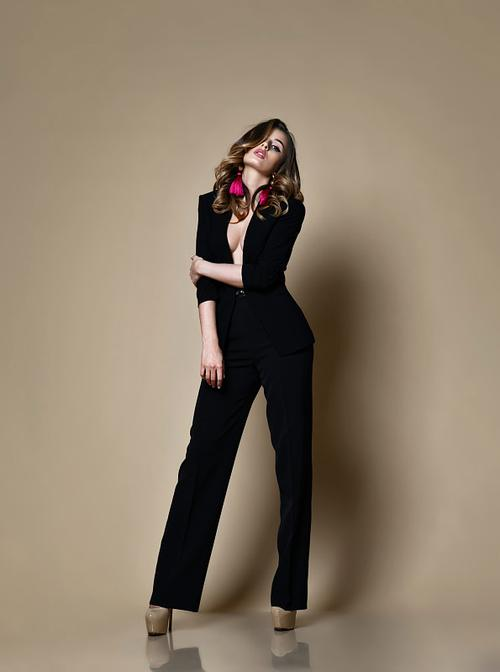up: (118, 109, 342, 658)
